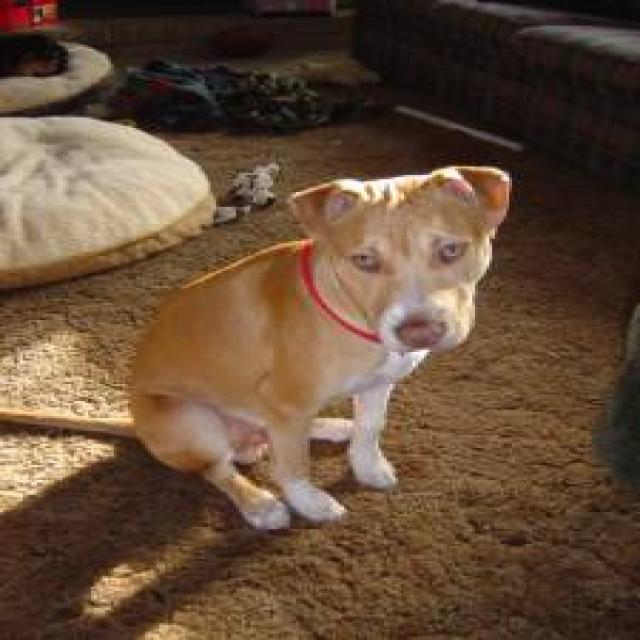dog-american_pit_bull_terrier: (3, 158, 526, 533)
